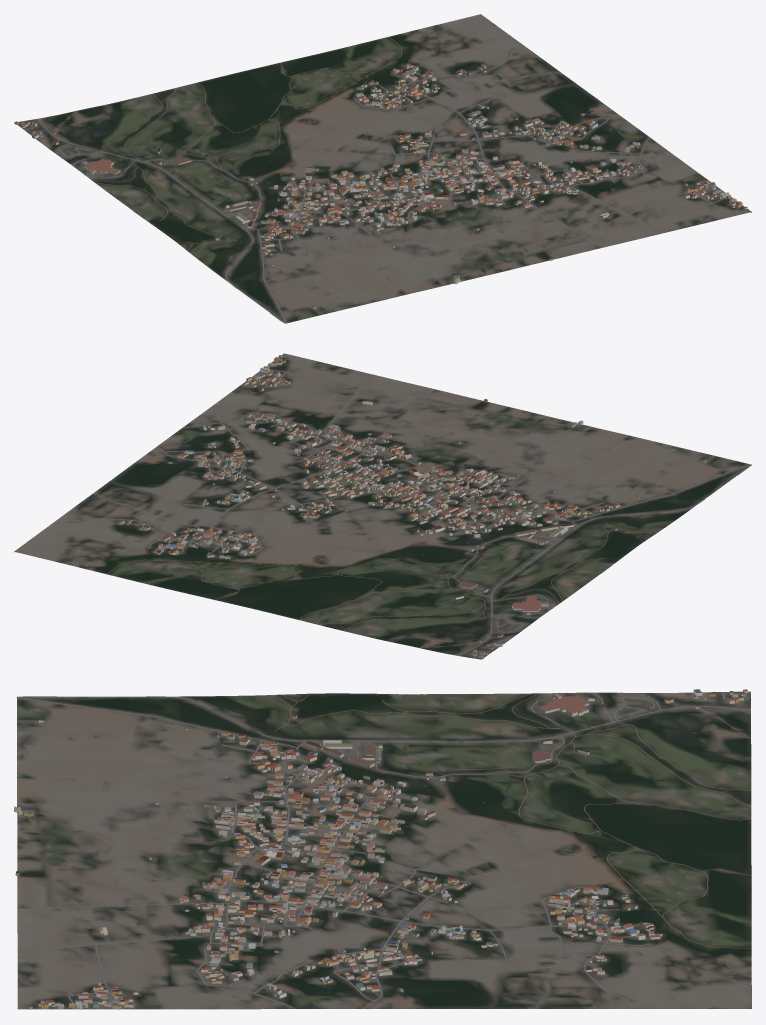
The picture shows the model from 3 angles, top to bottom: view 1: azimuth 30°, elevation 25°; view 2: azimuth 150°, elevation 25°; view 3: azimuth 270°, elevation 25°; orthographic projection. The views are drawn at different scales.
Visible parts, largest first — view 1: ground, buildings, roads; view 2: ground, buildings, roads; view 3: ground, buildings, roads.
Boxes of the visible parts, x1,y1,x2,y2 form: ground: [14, 14, 751, 323]; buildings: [15, 63, 747, 308]; roads: [21, 28, 726, 323]; ground: [14, 353, 751, 659]; buildings: [119, 355, 706, 658]; roads: [56, 370, 751, 658]; ground: [17, 691, 751, 1009]; buildings: [14, 689, 747, 1009]; roads: [16, 692, 751, 1009].
Bounding box in the file's own units: 1403 × 24.66 × 1409.
